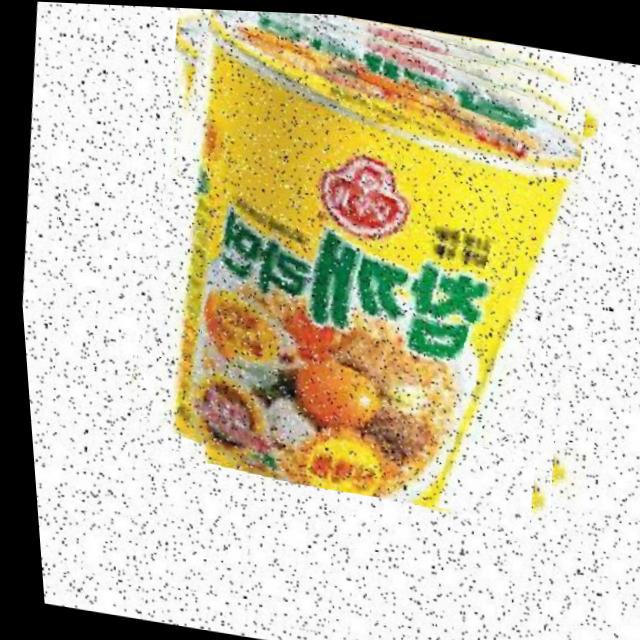Miscellaneous: (105, 3, 615, 524)
